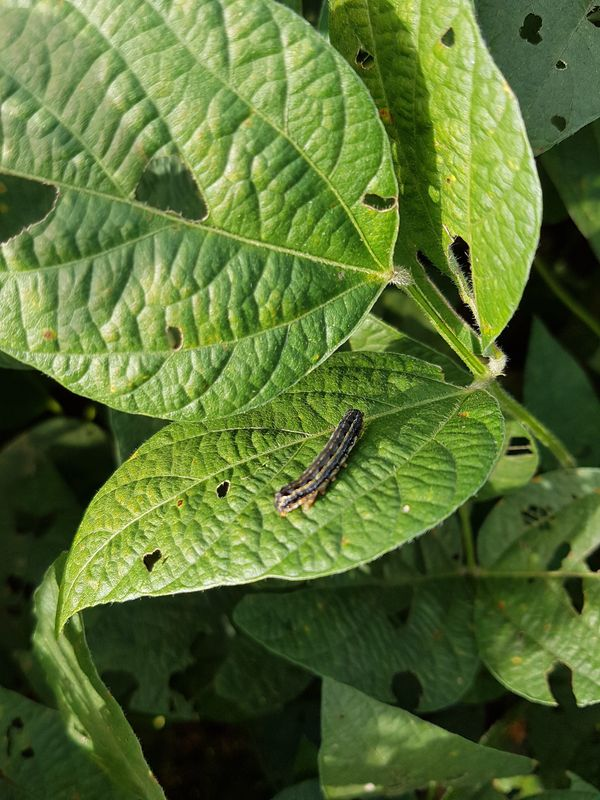Spodoptera_albula: (262, 401, 378, 524)
